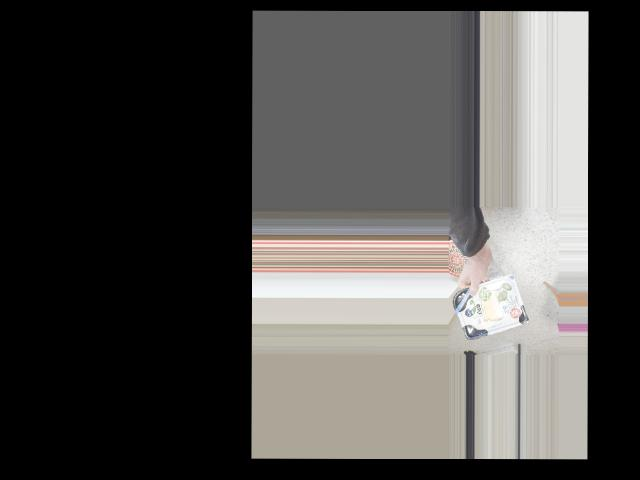cheese: (459, 284, 520, 331)
